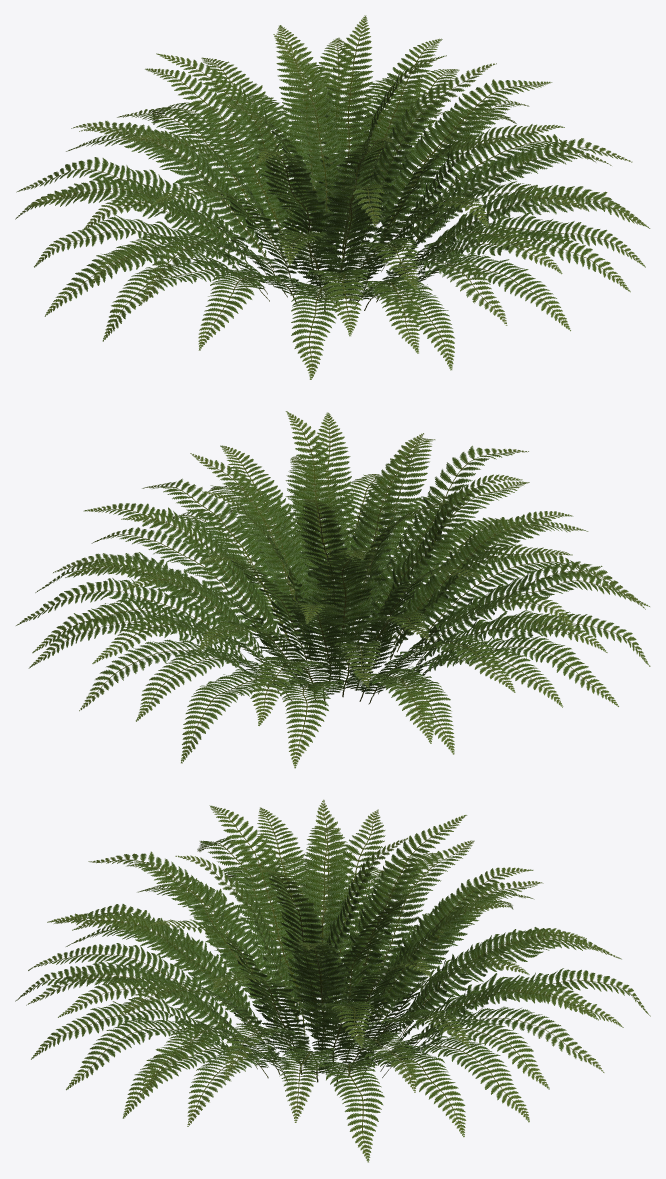
The model's file is helecho.glb.
The picture shows the model from 3 angles, top to bottom: view 1: azimuth 30°, elevation 25°; view 2: azimuth 150°, elevation 25°; view 3: azimuth 270°, elevation 25°; orthographic projection. The views are drawn at different scales.
Visible parts, largest first — view 1: Matteuccia_struthiopteris__A001; view 2: Matteuccia_struthiopteris__A001; view 3: Matteuccia_struthiopteris__A001.
Boxes of the visible parts, x1,y1,x2,y2 form: Matteuccia_struthiopteris__A001: (15,15,650,379); Matteuccia_struthiopteris__A001: (16,411,650,768); Matteuccia_struthiopteris__A001: (15,799,650,1162).
Bounding box in the file's own units: 0.3978 × 0.1479 × 0.39.
Materials: 1 (1 with a texture image).
